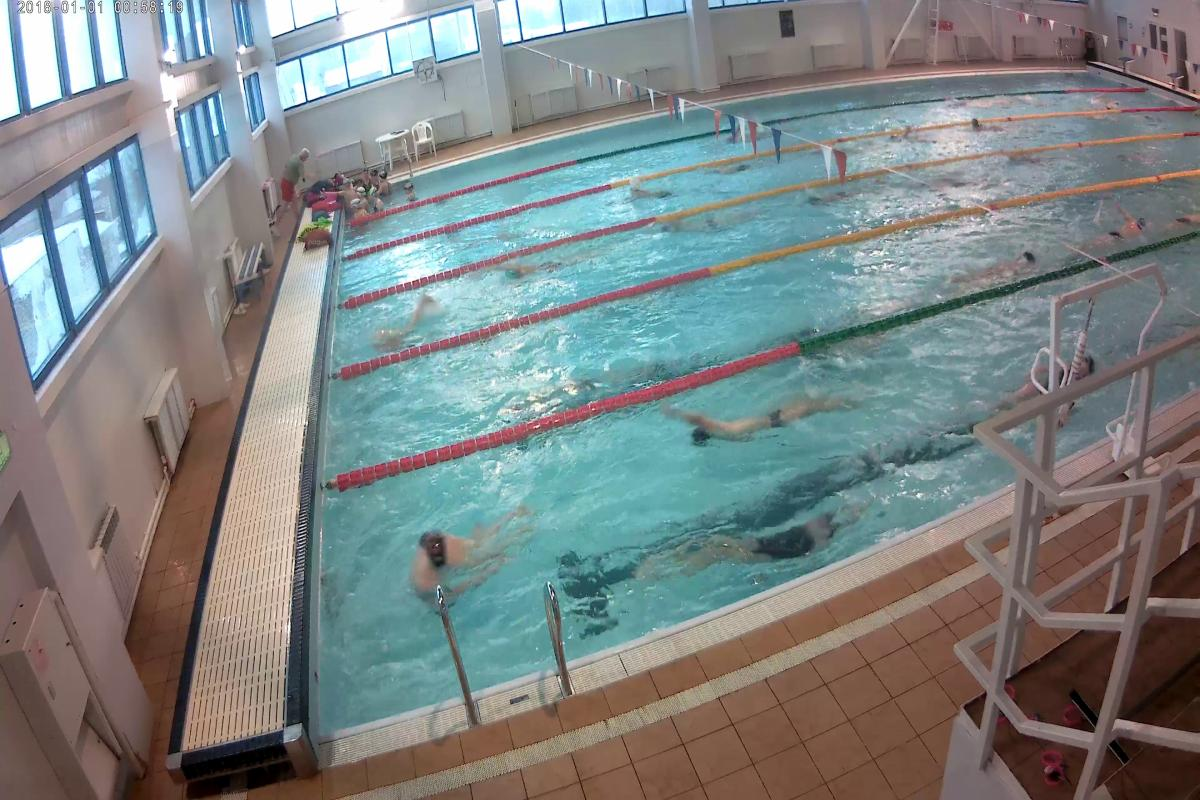swimmer: (682, 392, 851, 437), (409, 528, 504, 602), (683, 526, 844, 567), (368, 305, 442, 345), (964, 250, 1018, 294), (505, 256, 580, 282), (1093, 217, 1149, 250), (657, 225, 744, 239)
